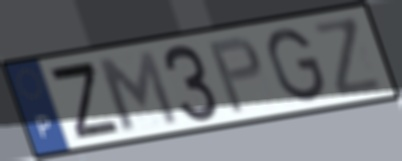3: (159, 40, 219, 124)
G: (265, 26, 328, 105)
M: (92, 47, 182, 133)
P: (205, 33, 265, 116)
Z: (309, 14, 387, 99), (44, 60, 124, 141)
